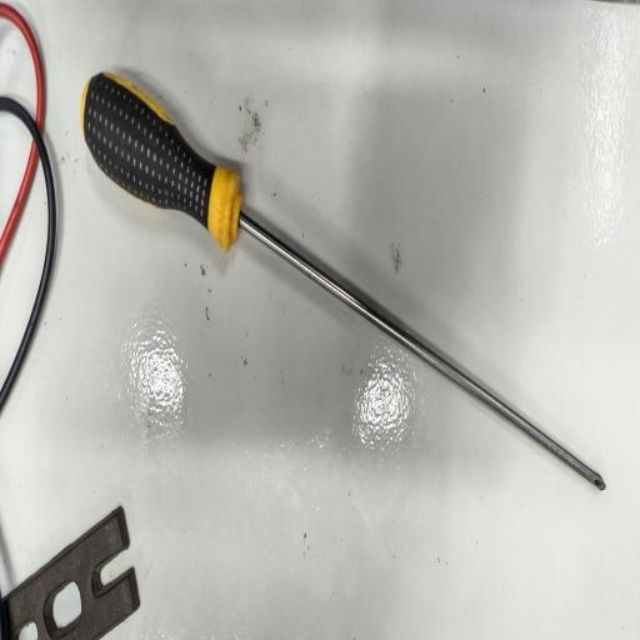screwdriver: (80, 72, 606, 492)
